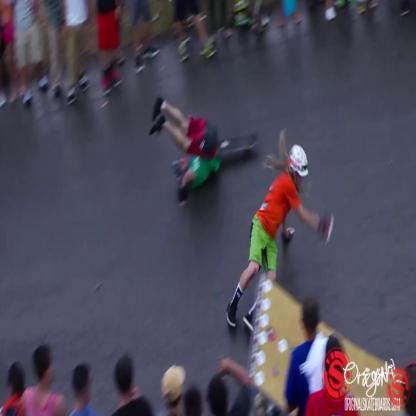Fall_Down: (148, 94, 220, 204)
